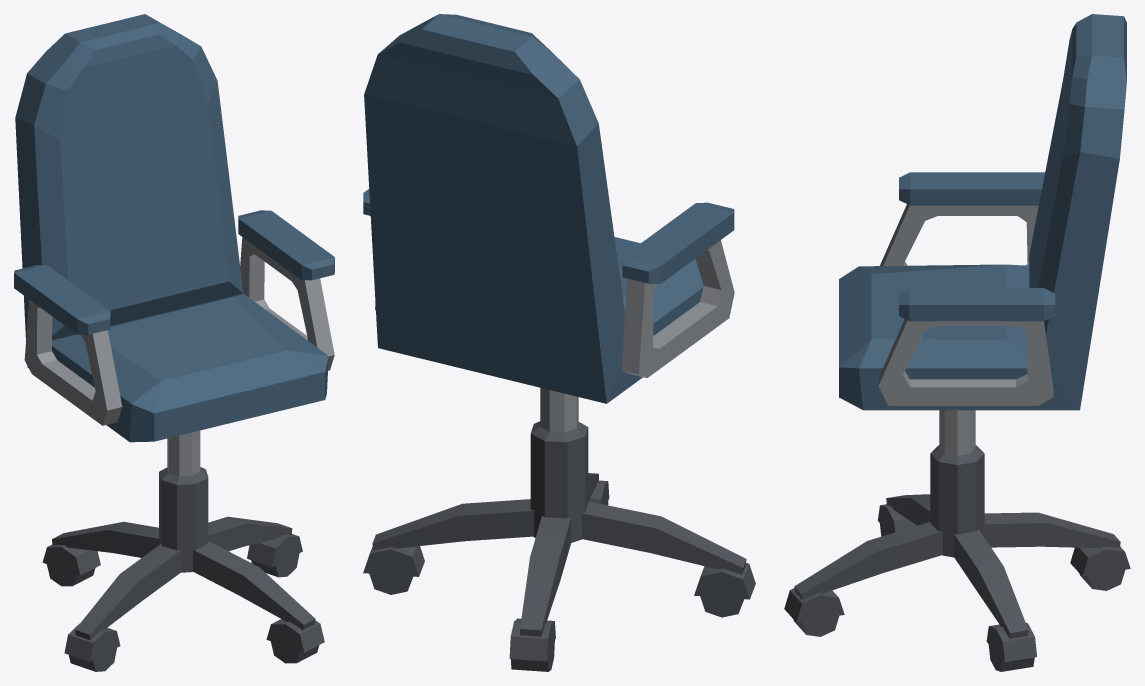
Rendered from Prop_Seat_01.glb.
3 views of the same model, side by side, from view 1: azimuth 30°, elevation 25°; view 2: azimuth 150°, elevation 25°; view 3: azimuth 270°, elevation 25° (orthographic). The views are drawn at different scales.
Visible parts, largest first — view 1: SM_Prop_Seat_01; view 2: SM_Prop_Seat_01; view 3: SM_Prop_Seat_01.
Boxes of the visible parts, x1,y1,x2,y2 form: SM_Prop_Seat_01: [14, 14, 334, 671]; SM_Prop_Seat_01: [363, 14, 755, 671]; SM_Prop_Seat_01: [784, 14, 1130, 671].
Bounding box in the file's own units: 0.7035 × 1.28 × 0.7035.
Materials: 1 (1 with a texture image).
